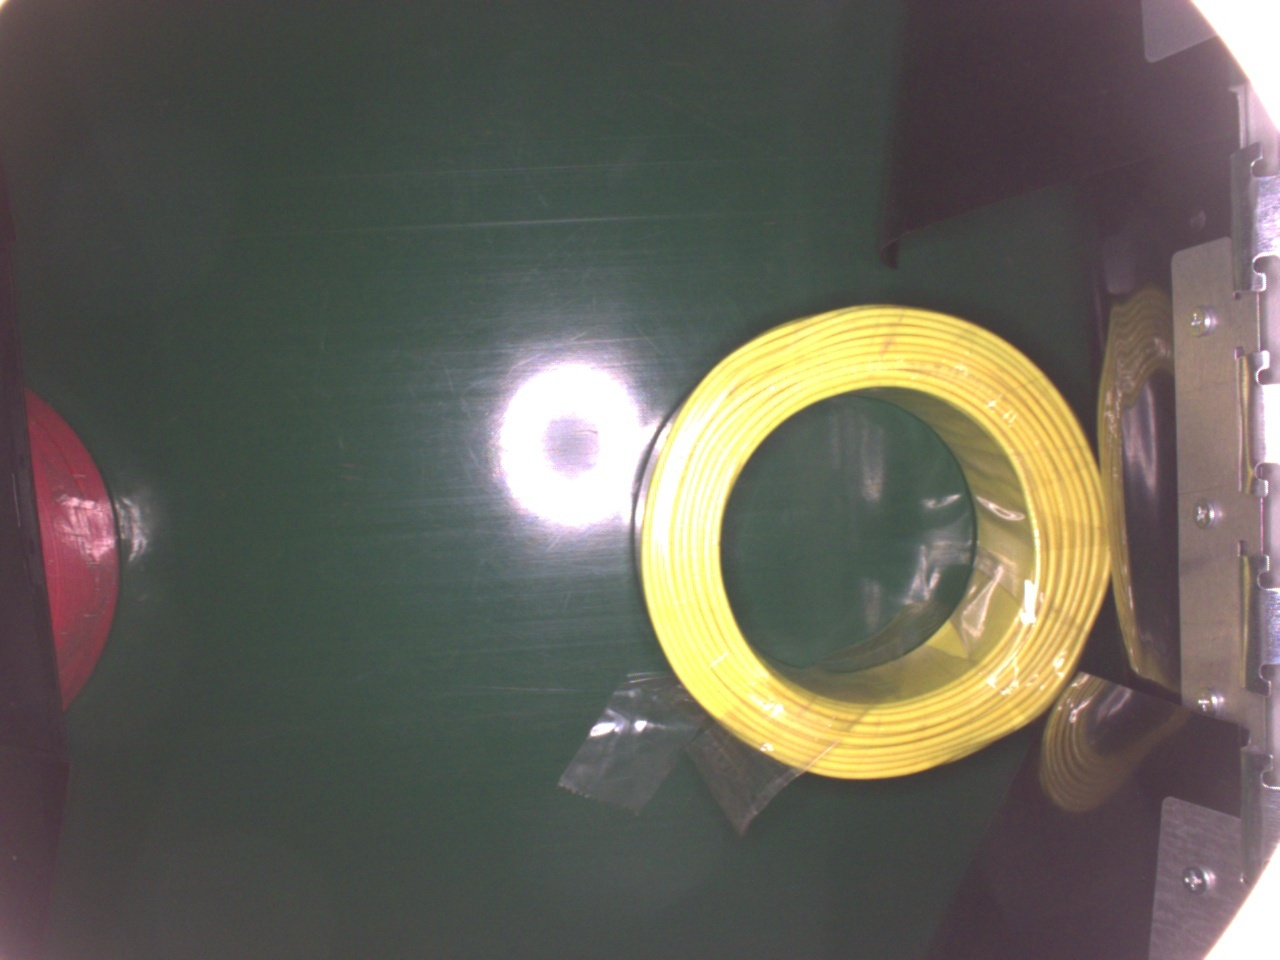yellow: (629, 296, 1114, 784)
